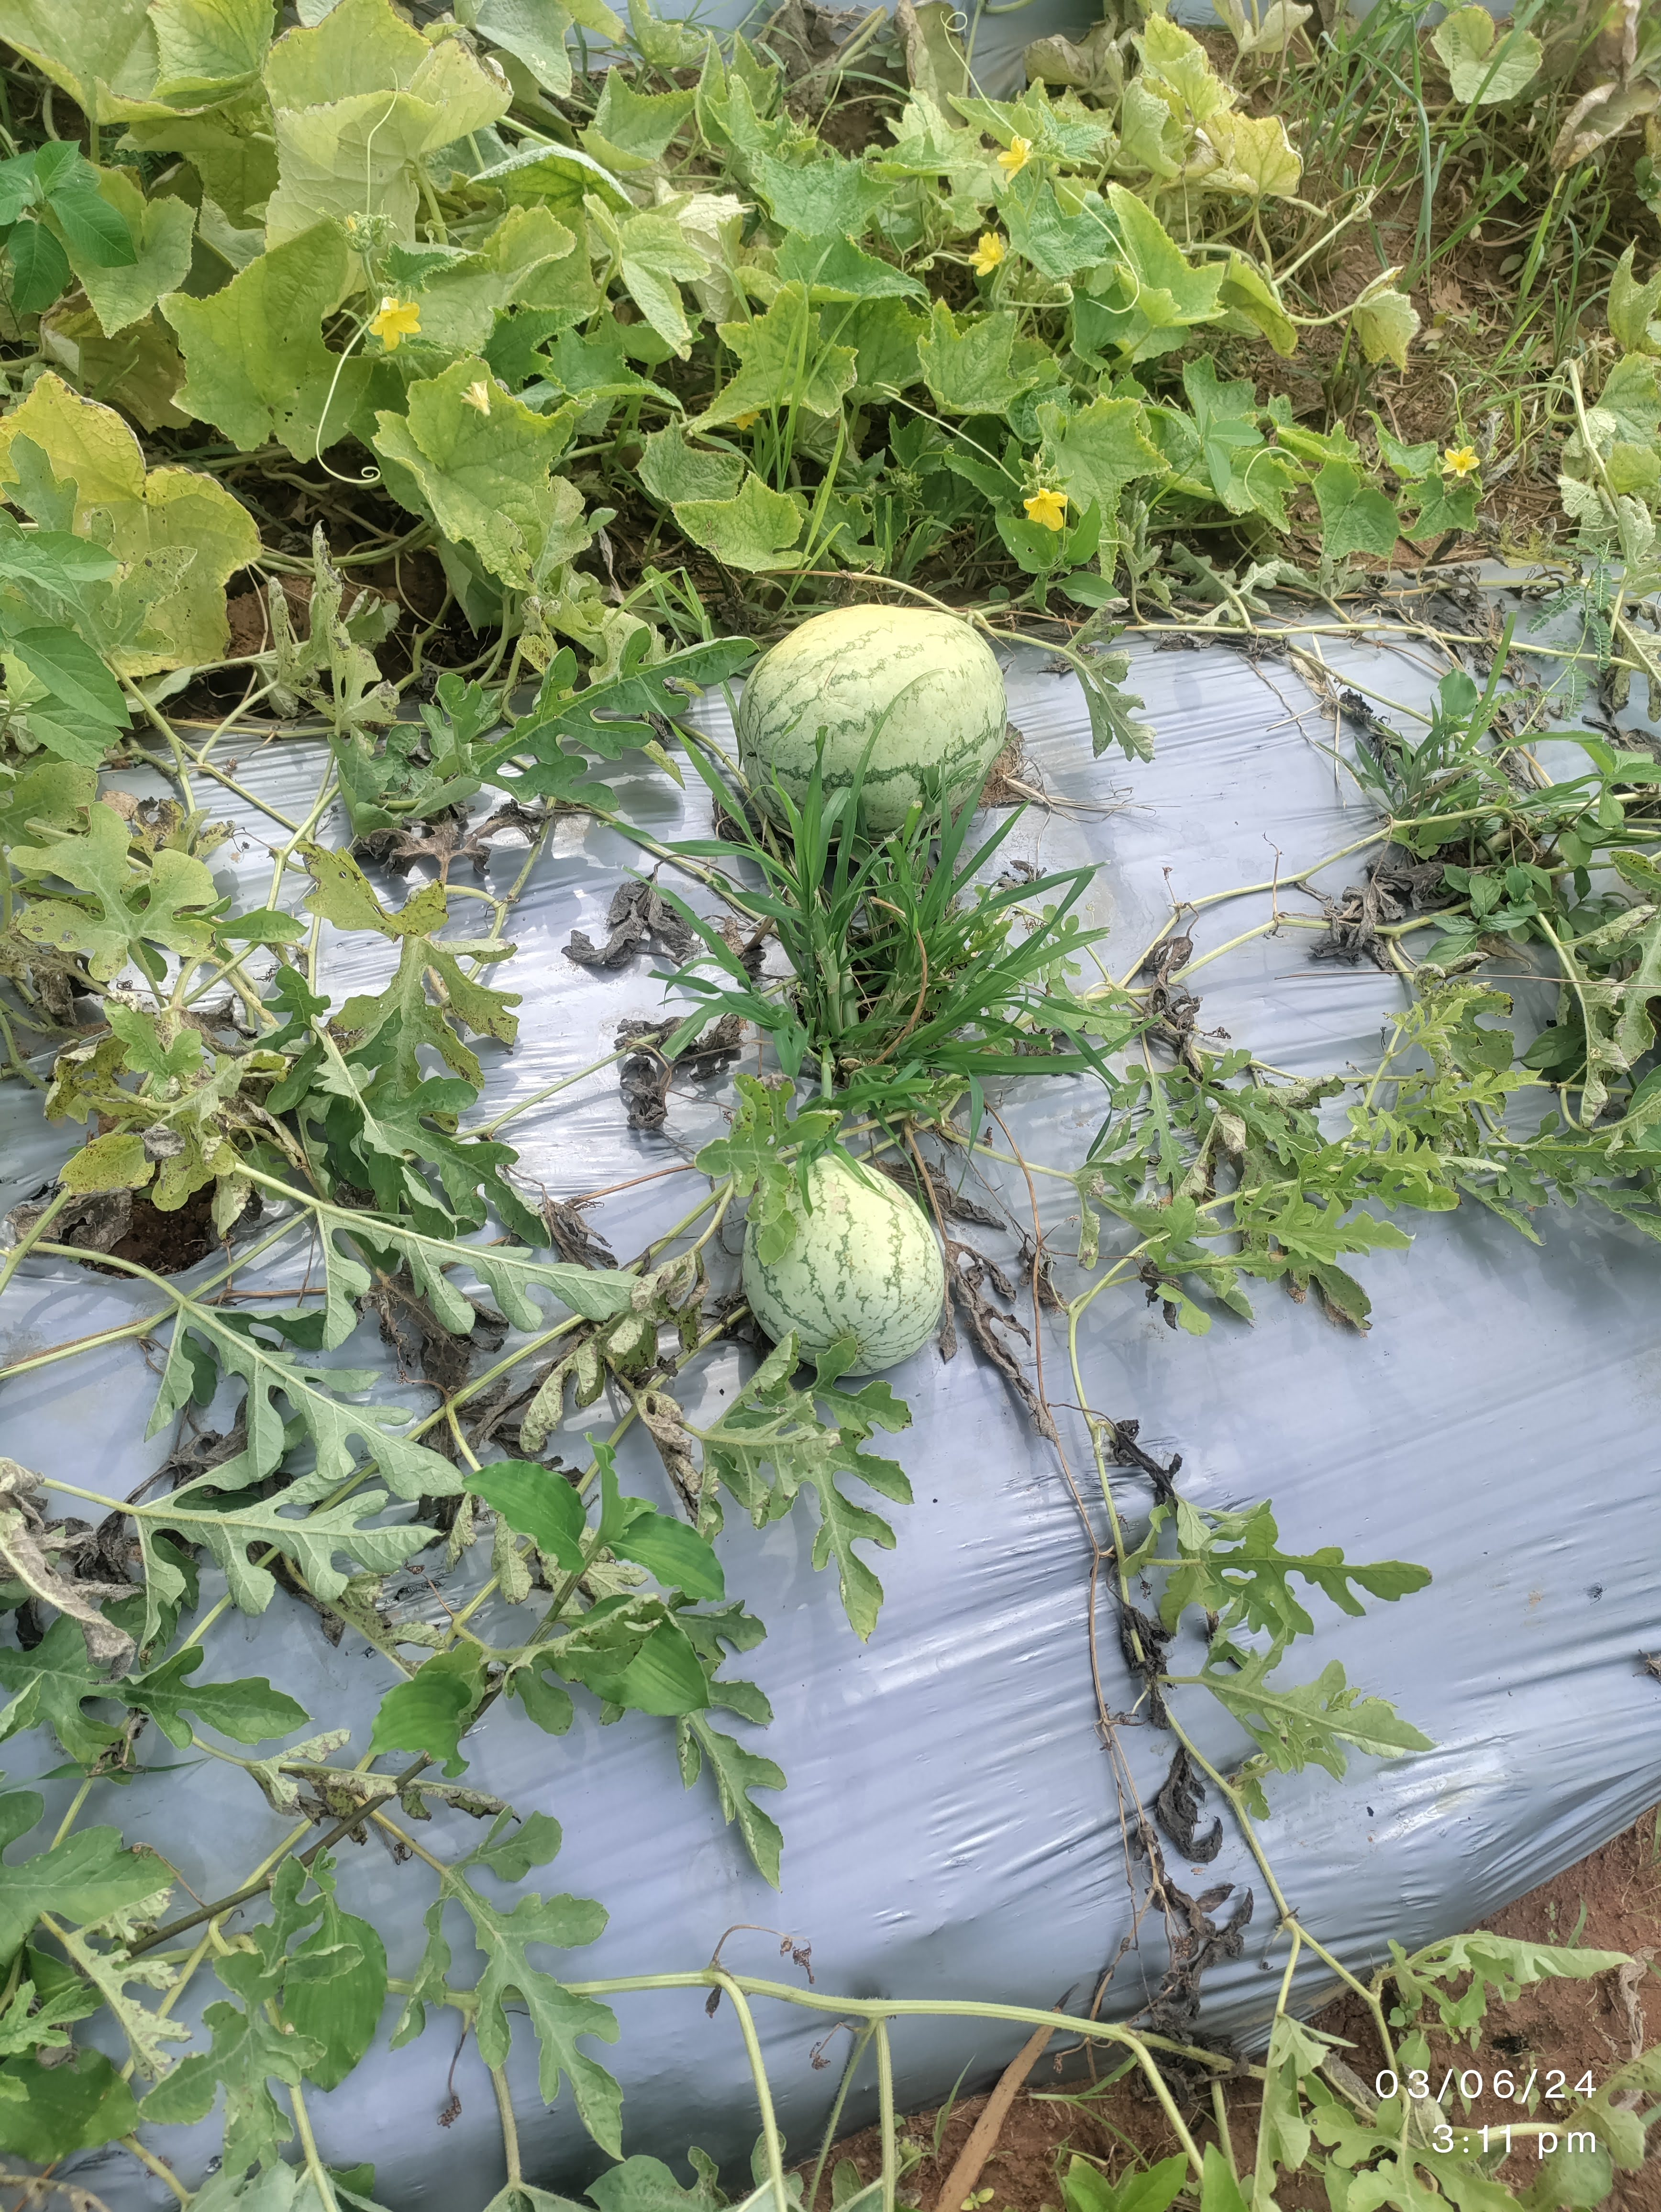good-to-harvest: (675, 543, 1120, 893)
not-good-to-harvest: (721, 1071, 991, 1404)
